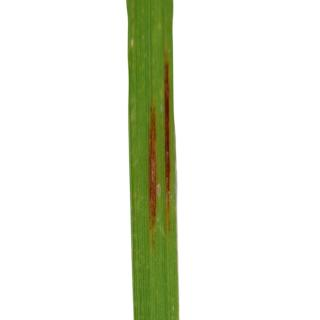Bercak-Cokelat-Sempit: (139, 52, 181, 256)
